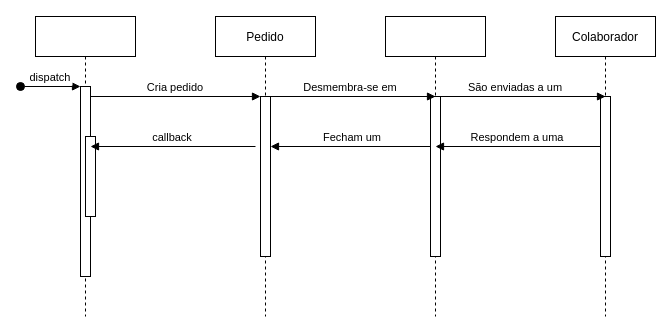
Some shapes in this 672 by 333 pixel diagram are drawn without their labels. Each missing label, with the box of its shape:
Cliente: (34, 16, 136, 316)
Solicitações: (384, 16, 486, 316)
